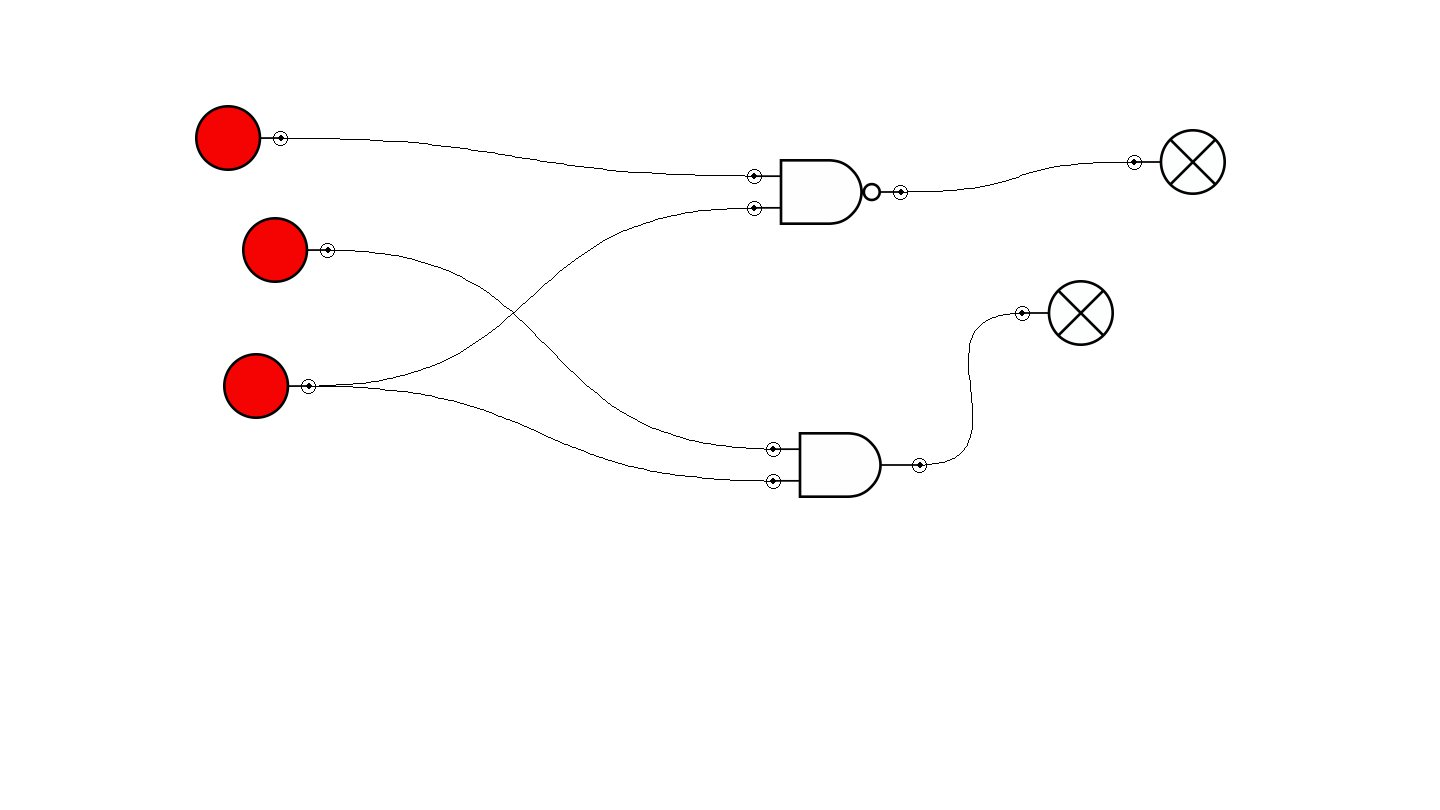and: (766, 432, 927, 498)
bulb: (1015, 280, 1114, 346), (1127, 129, 1226, 195)
nand: (747, 159, 908, 225)
switch_False: (223, 353, 316, 419), (242, 217, 335, 283), (195, 105, 288, 171)
